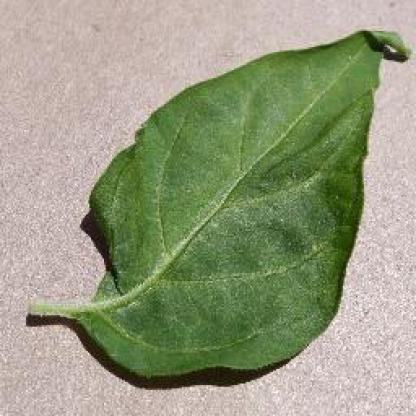bad leaf: (107, 110, 272, 292), (178, 149, 345, 298)
good leaf: (307, 19, 401, 161), (181, 45, 316, 139), (83, 292, 208, 386), (171, 292, 323, 366)
